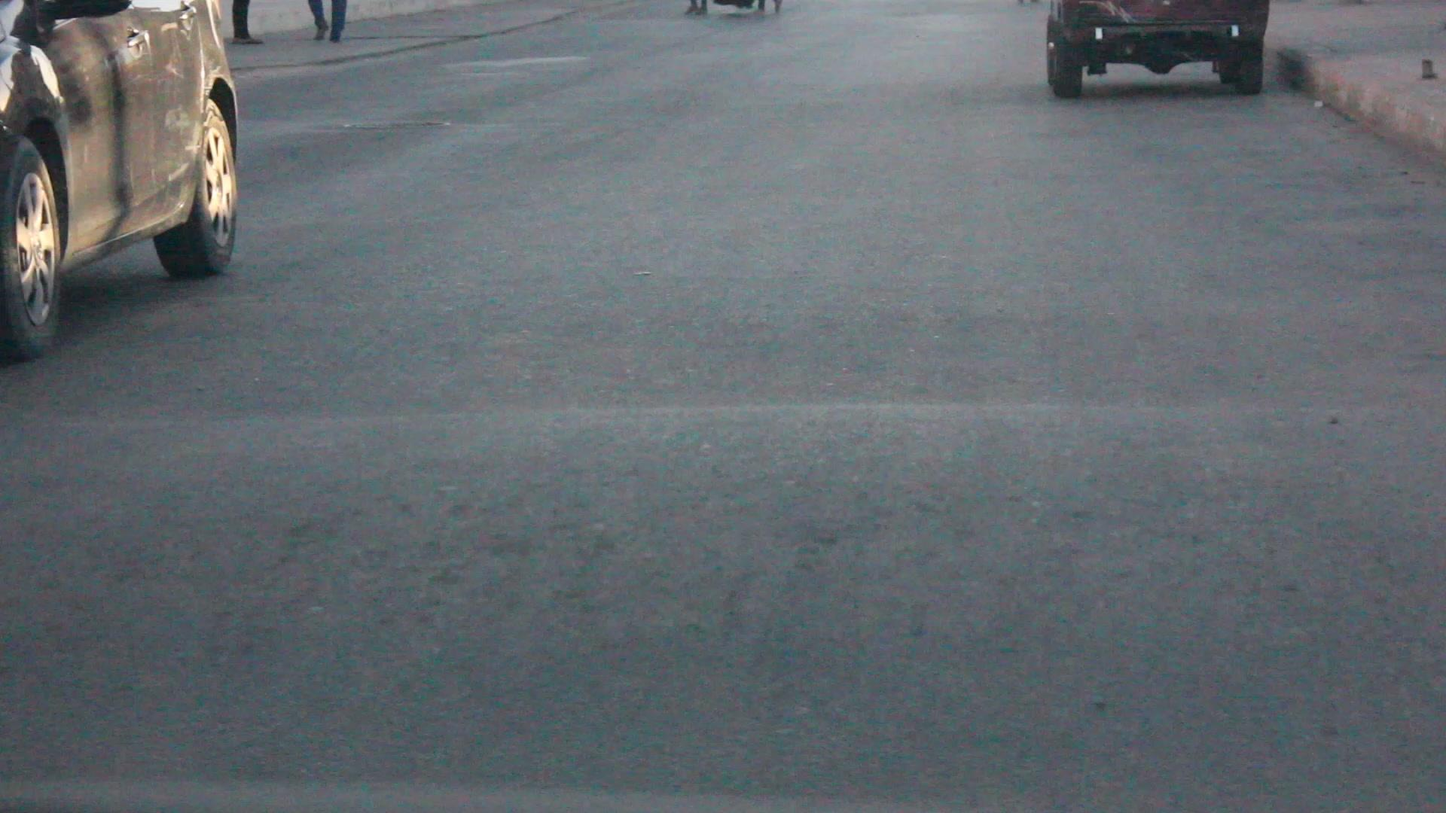Bump: (0, 393, 1444, 812)
